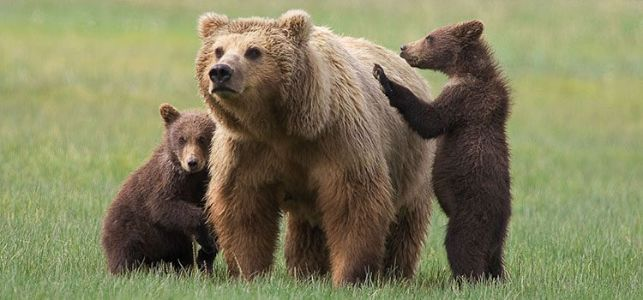bear: (195, 7, 426, 282), (375, 19, 528, 288), (108, 99, 220, 276)
